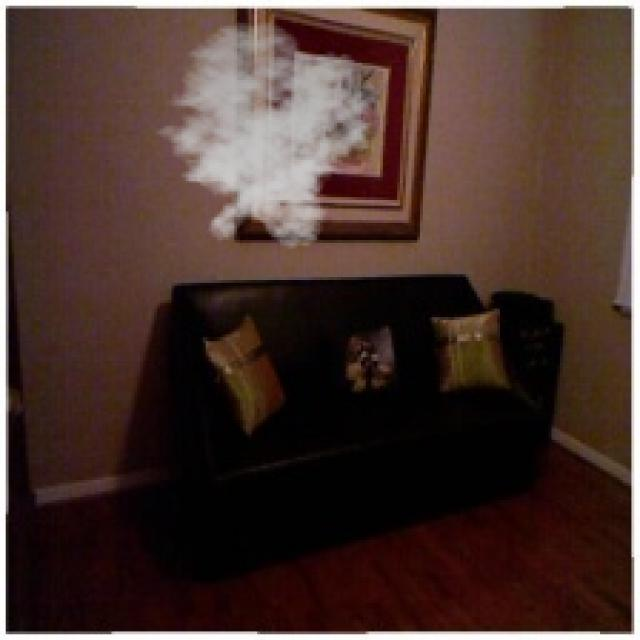smoke: (143, 20, 380, 249)
